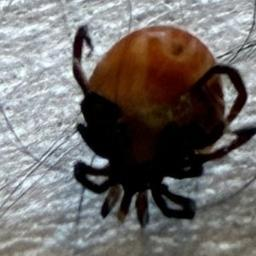Ixodes scapularis: (71, 27, 255, 229)
